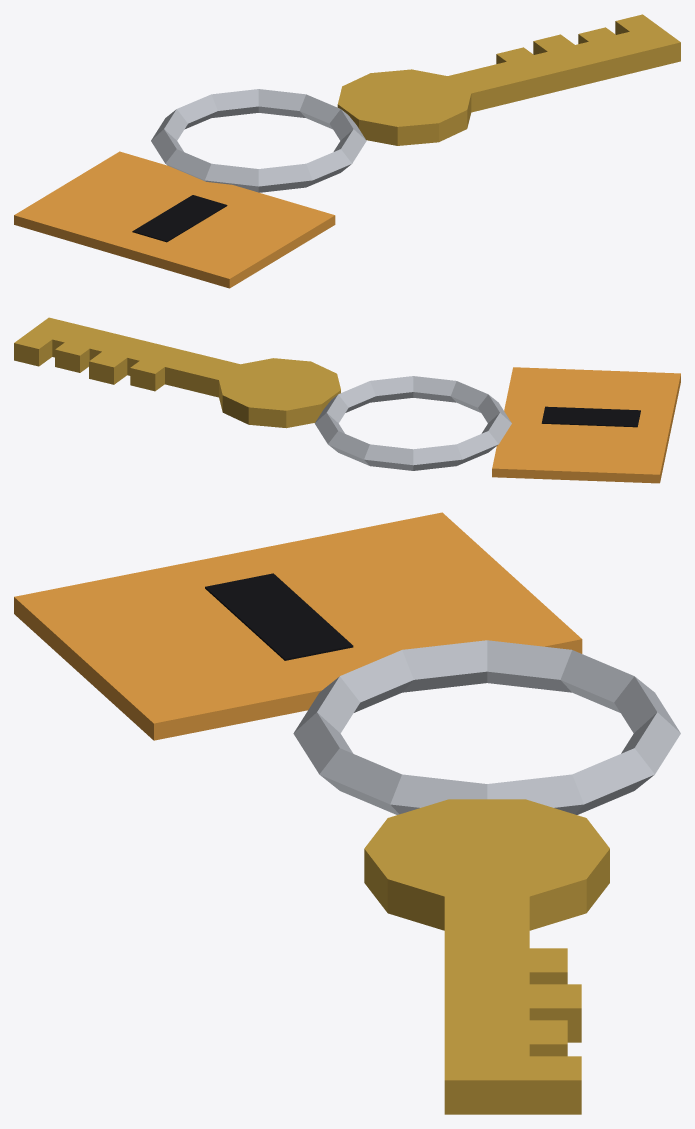
The model's file is lockup-key.glb.
3 views of the same model, one above another, from view 1: azimuth 30°, elevation 25°; view 2: azimuth 150°, elevation 25°; view 3: azimuth 270°, elevation 25° (orthographic). The views are drawn at different scales.
Parts seen in each view (by area): view 1: lockup_key; view 2: lockup_key; view 3: lockup_key.
Part boxes in pixels (x1,y1,x2,y2): lockup_key: (14,14,680,288); lockup_key: (14,317,680,483); lockup_key: (14,512,680,1114).
Size of the model in its own units: 0.1464 by 0.005 by 0.0706.
